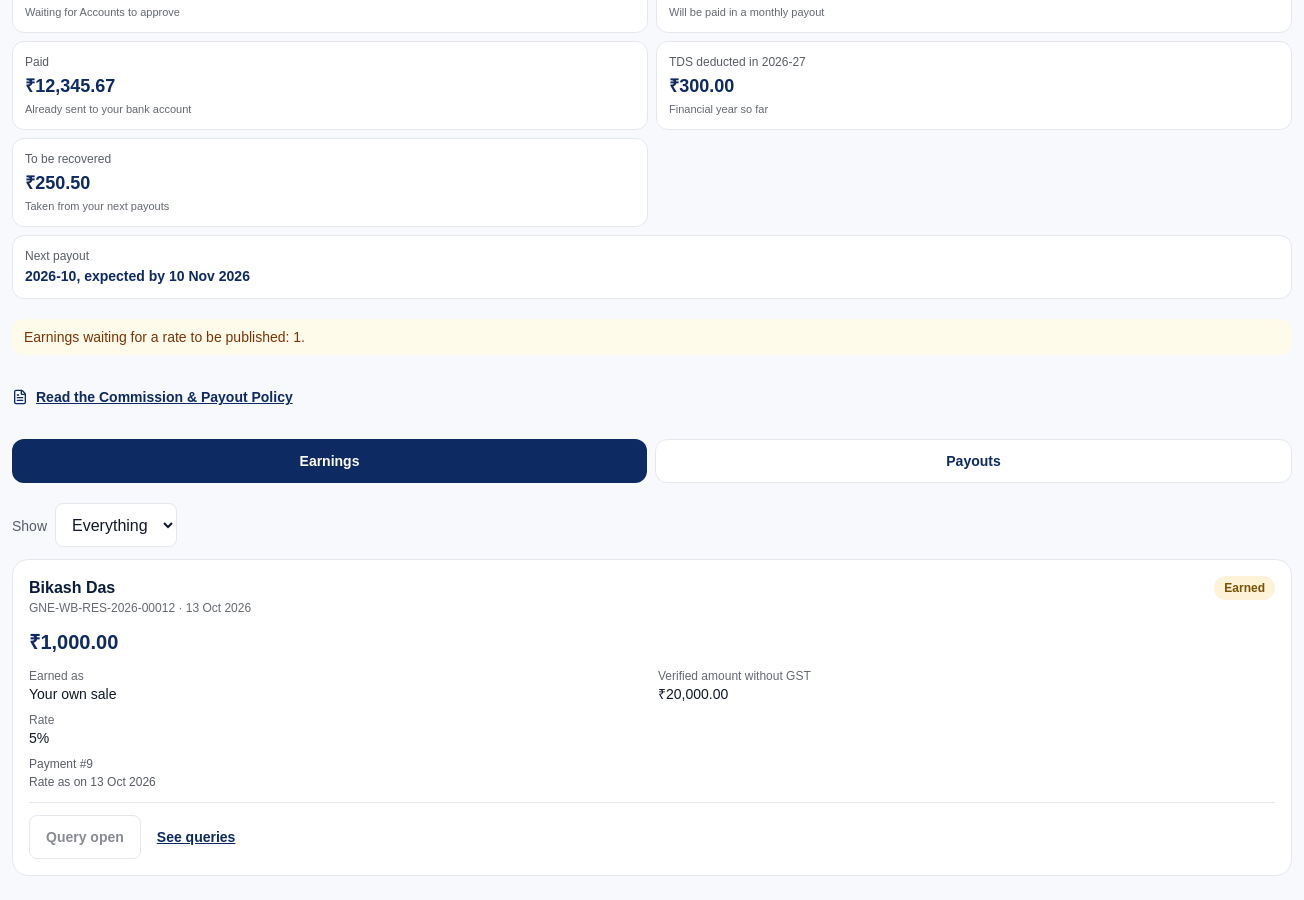
it: Raise a query (E3) › an open query disables the button and shows the history with Grid Nova’s reply
(page scrolled)
Expected: the button "Query open" is disabled, [29,815,141,859]
Click the button "See queries" at coordinates (196, 837), box [157,815,235,859]
(page scrolled)
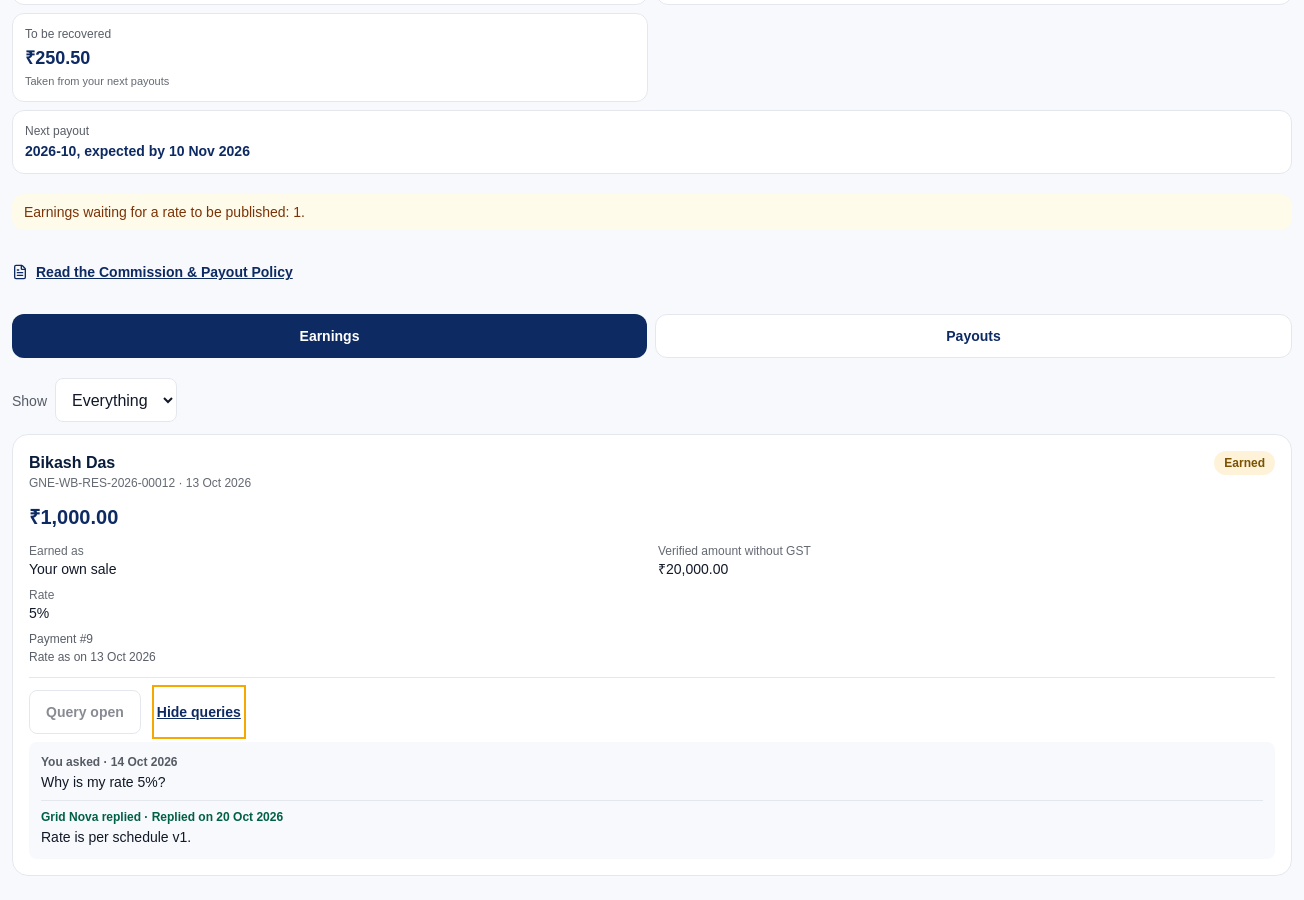
Now the text "Why is my rate 5%?" is shown, box [41,774,166,790]
Now the text "Rate is per schedule v1." is shown, box [41,829,191,845]
